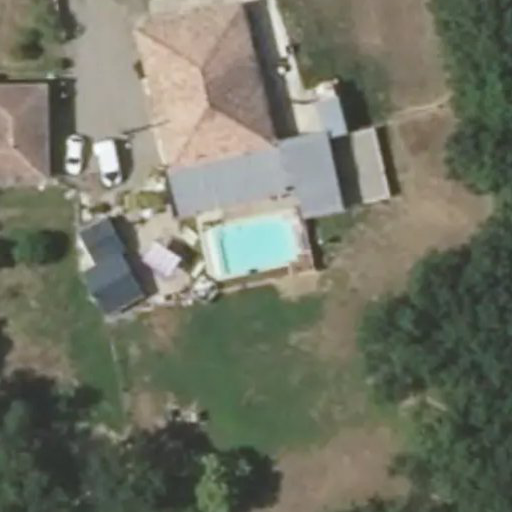pool: (202, 230, 309, 253)
